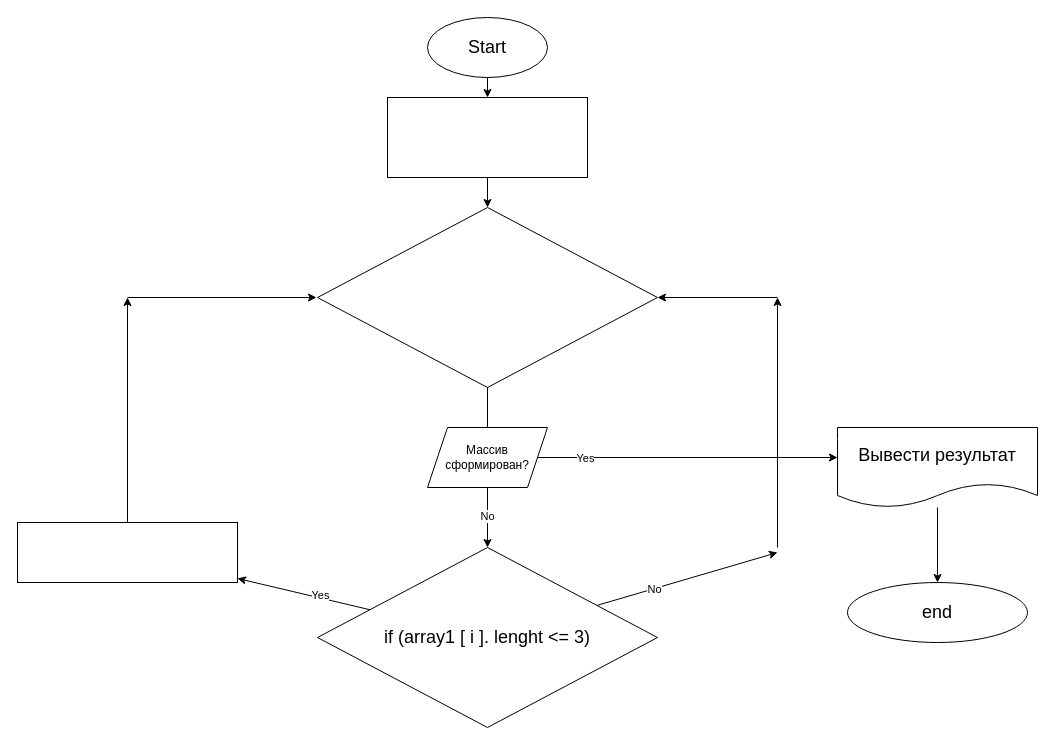
This 1055x745 diagram has some shape labels left out. Each missing label, with the centre of its shape:
"array2[count] = array1[1] count++" goes at pixel 127 552.
"массив1 массив2" goes at pixel 487 137.
"ц икл перенос длины массива1 в массив2 i < array1.lenght; i++" goes at pixel 487 297.
